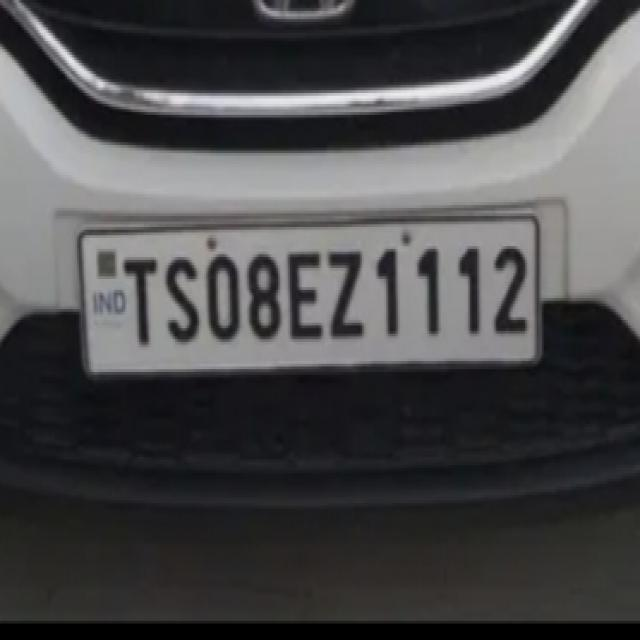0: (202, 246, 244, 352)
1: (370, 235, 405, 351), (412, 228, 446, 344), (453, 234, 484, 348)
8: (242, 242, 286, 350)
E: (284, 235, 326, 352)
S: (161, 241, 202, 350)
T: (116, 244, 163, 354)
Z: (325, 237, 370, 347)
